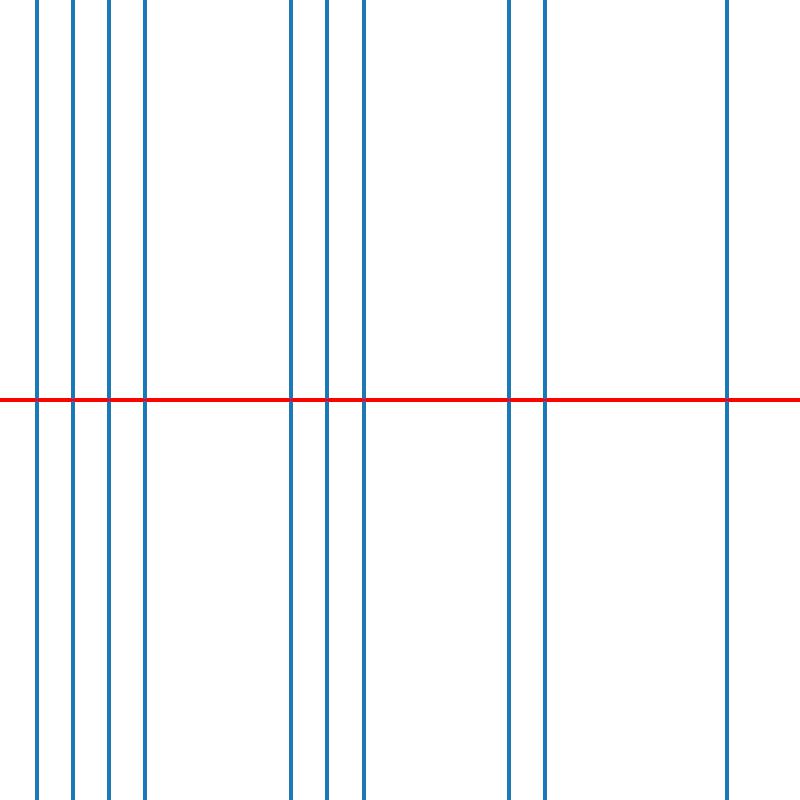root: (141, 396, 149, 404), (32, 396, 40, 404), (541, 396, 549, 404), (323, 396, 330, 404), (723, 396, 730, 404), (360, 396, 367, 404), (105, 396, 112, 404), (505, 396, 512, 404), (287, 396, 294, 404), (69, 396, 76, 404)
